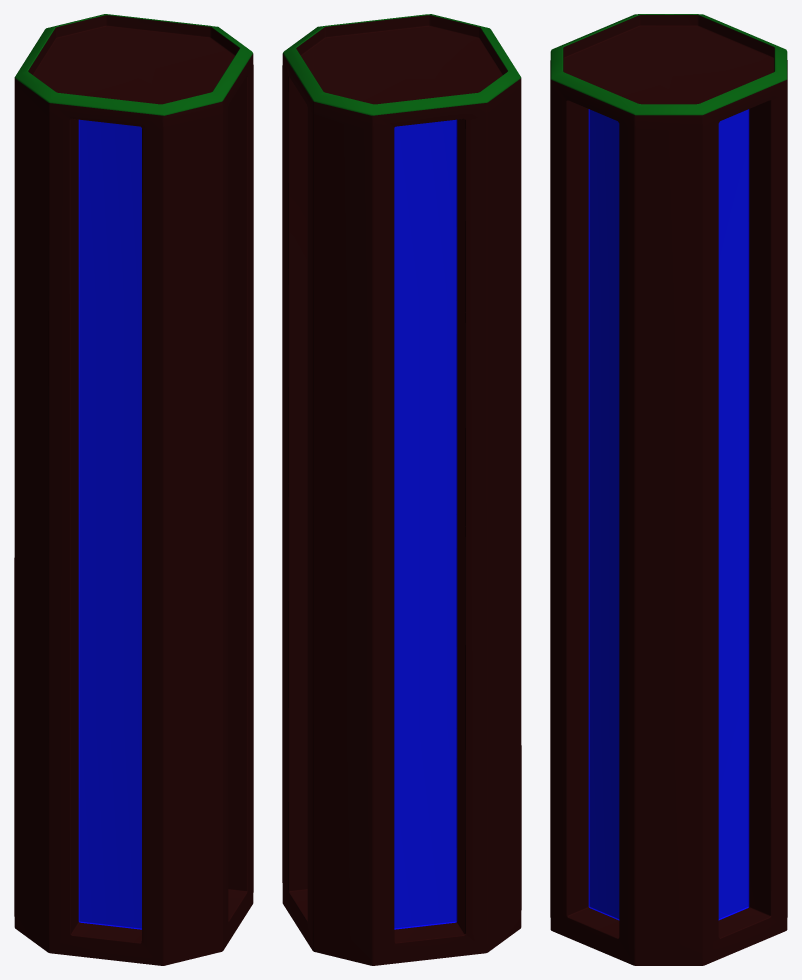
The model's file is Light 01.fbx.
3 views of the same model, side by side, from view 1: azimuth 30°, elevation 25°; view 2: azimuth 150°, elevation 25°; view 3: azimuth 270°, elevation 25° (orthographic).
Visible parts, largest first — view 1: LightPoll; view 2: LightPoll; view 3: LightPoll.
Boxes of the visible parts, x1,y1,x2,y2 form: LightPoll: (14,14,253,965); LightPoll: (282,14,521,965); LightPoll: (550,14,787,965).
Size of what is drawn, in the model's own units: 100 by 400 by 100.
